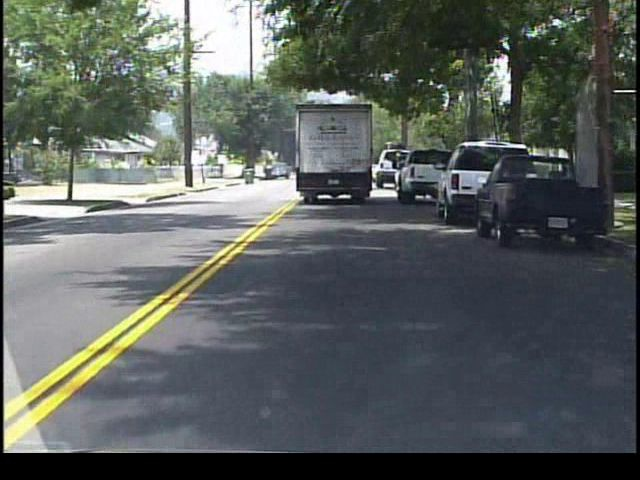person: (219, 163, 226, 182)
